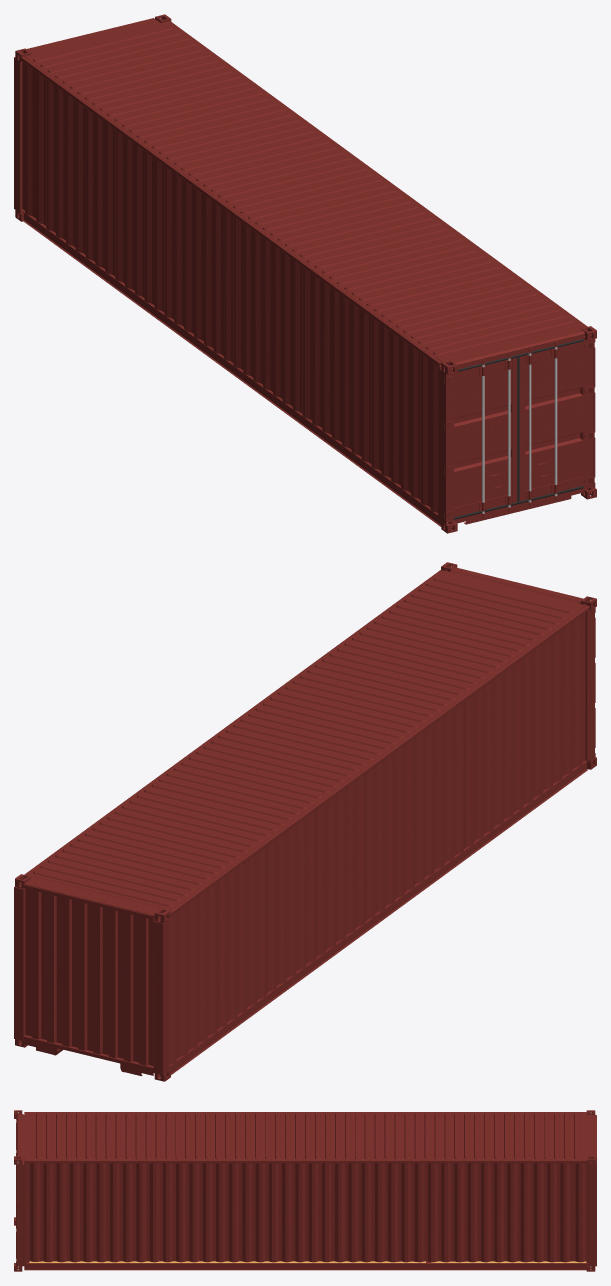
The model's file is container_multi.obj.
3 views of the same model, one above another, from view 1: azimuth 30°, elevation 25°; view 2: azimuth 150°, elevation 25°; view 3: azimuth 270°, elevation 25° (orthographic). The views are drawn at different scales.
Visible parts, largest first — view 1: primitive_0, primitive_2, primitive_1; view 2: primitive_0; view 3: primitive_0, primitive_4.
Part boxes in pixels (x1,y1,x2,y2): primitive_0: (14, 14, 596, 533); primitive_2: (482, 347, 557, 513); primitive_1: (454, 339, 583, 519); primitive_0: (14, 562, 596, 1081); primitive_0: (14, 1110, 596, 1271); primitive_4: (29, 1261, 586, 1262).
Size of the model in its own units: 244 by 259 by 1223.
5 materials, 2 textured.
